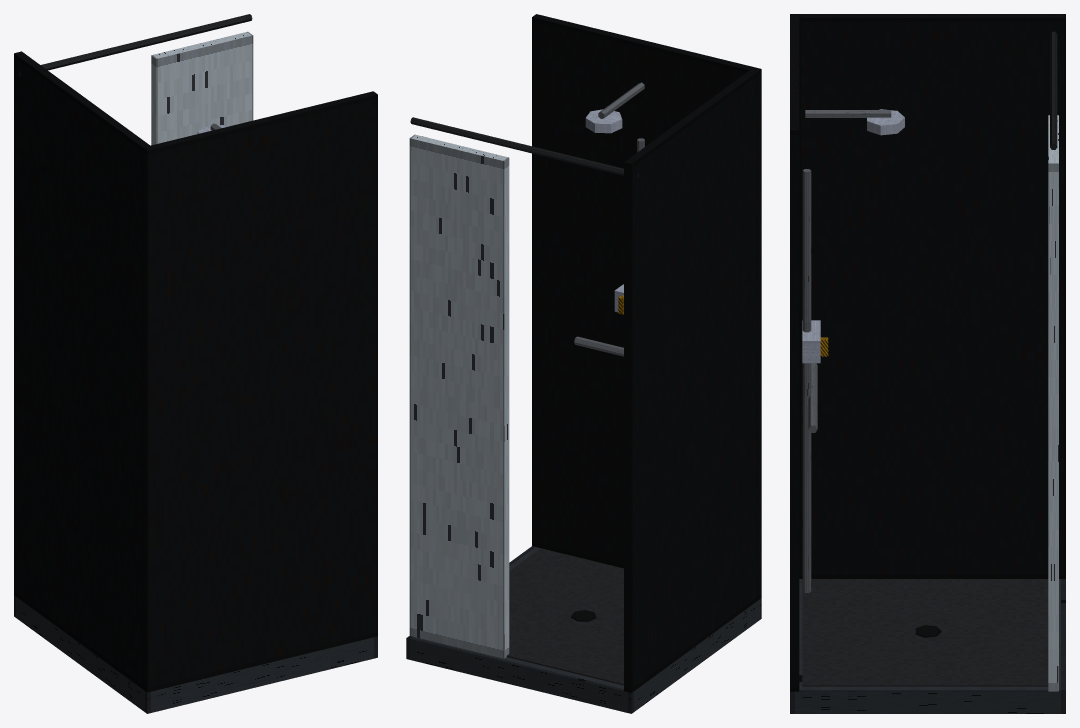
File: crew_shower.glb
The picture shows the model from 3 angles, left to right: view 1: azimuth 30°, elevation 25°; view 2: azimuth 150°, elevation 25°; view 3: azimuth 270°, elevation 25°; orthographic projection. The views are drawn at different scales.
Parts seen in each view (by area): view 1: crew_shower; view 2: crew_shower; view 3: crew_shower.
Part boxes in pixels (box(x1,y1,x2,y2)): crew_shower: box(14, 14, 377, 713); crew_shower: box(406, 14, 761, 713); crew_shower: box(790, 14, 1065, 713).
Size of the model in its own units: 0.9 by 2.1 by 0.9.
1 material, 1 textured.
